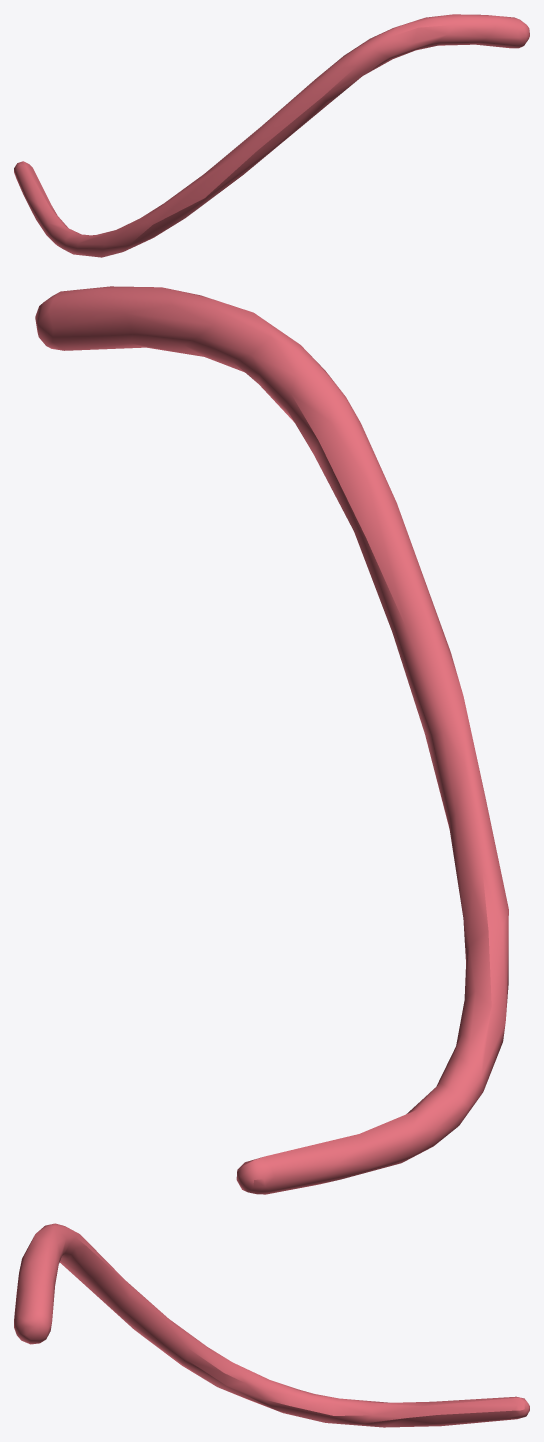
Rendered from fma51882_fj5000.glb.
The picture shows the model from 3 angles, top to bottom: view 1: azimuth 30°, elevation 25°; view 2: azimuth 150°, elevation 25°; view 3: azimuth 270°, elevation 25°; orthographic projection. The views are drawn at different scales.
Parts seen in each view (by area): view 1: FMA51882_FJ5000; view 2: FMA51882_FJ5000; view 3: FMA51882_FJ5000.
Part boxes in pixels (x1,y1,x2,y2): FMA51882_FJ5000: [14, 14, 529, 257]; FMA51882_FJ5000: [35, 286, 508, 1194]; FMA51882_FJ5000: [14, 1223, 529, 1427].
Size of the model in its own units: 0.00975 by 0.00738 by 0.0105.
